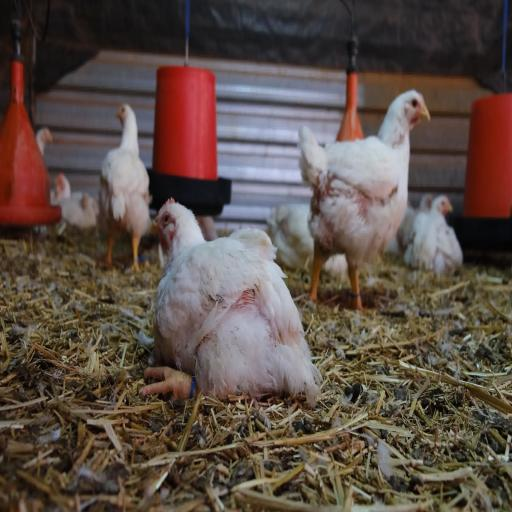healthy: (399, 77, 439, 130), (151, 194, 182, 242)
